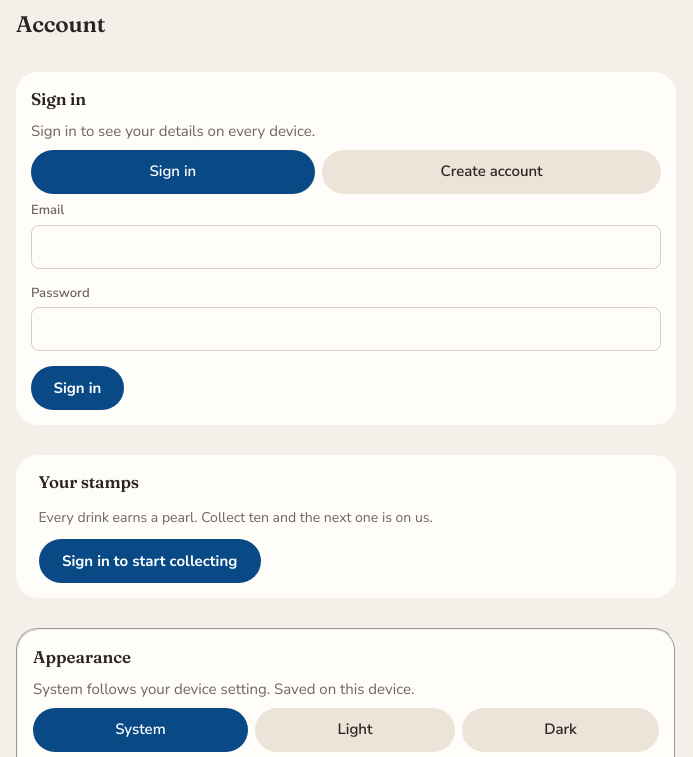
AccountPage › signed out › shows the api message for a wrong password
Type "tristan@example.com" into the field labelled "Email" at (346, 246), box [31, 224, 661, 268]
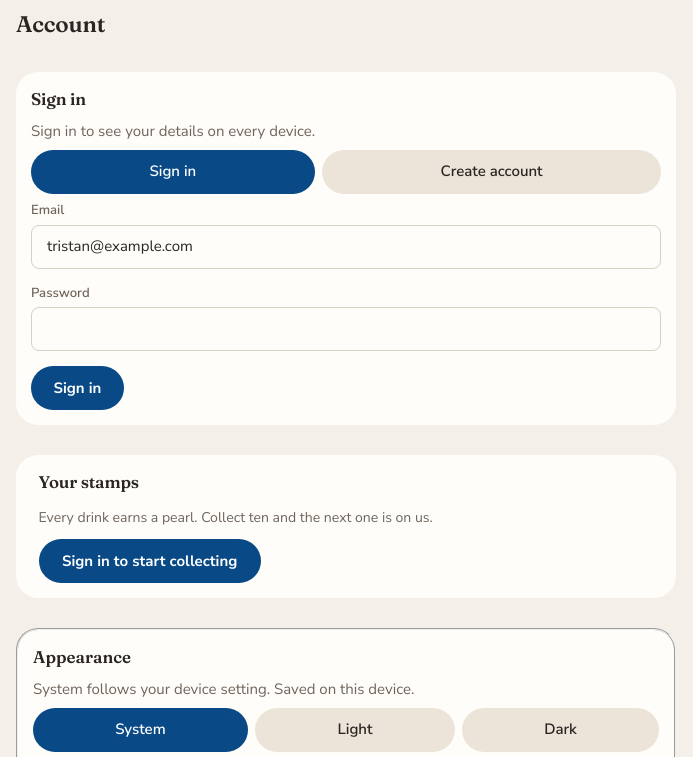
Type "wrong horse!" into the password field labelled "Password" at (346, 329), box [31, 307, 661, 351]
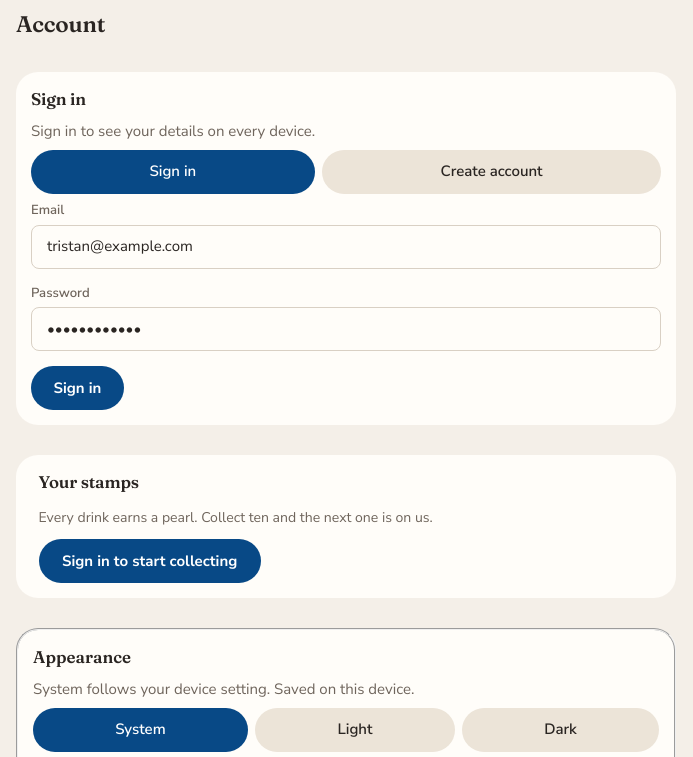
Submit the form from the button "Sign in" below "Password", box [31, 366, 124, 410]
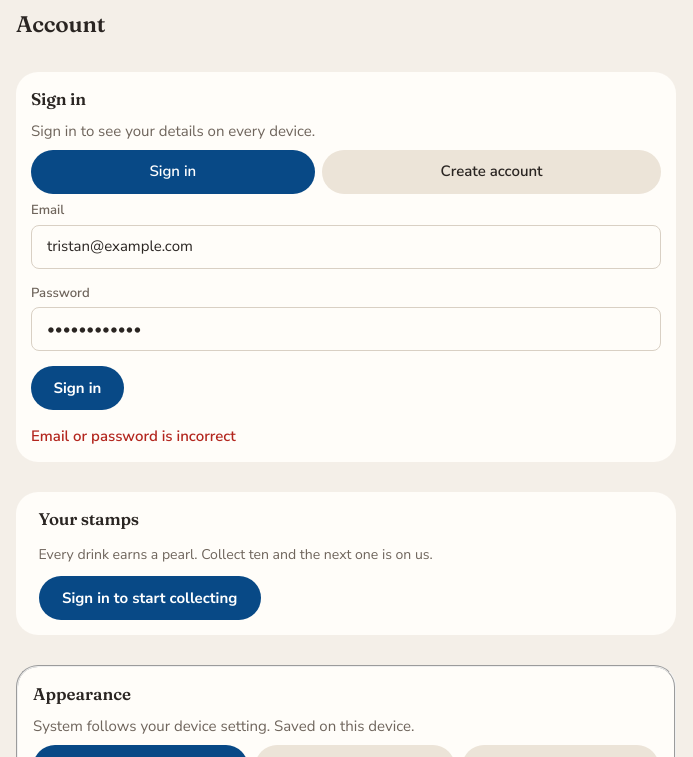
Check: the message reads "Email or password is incorrect", box [31, 426, 236, 446]
